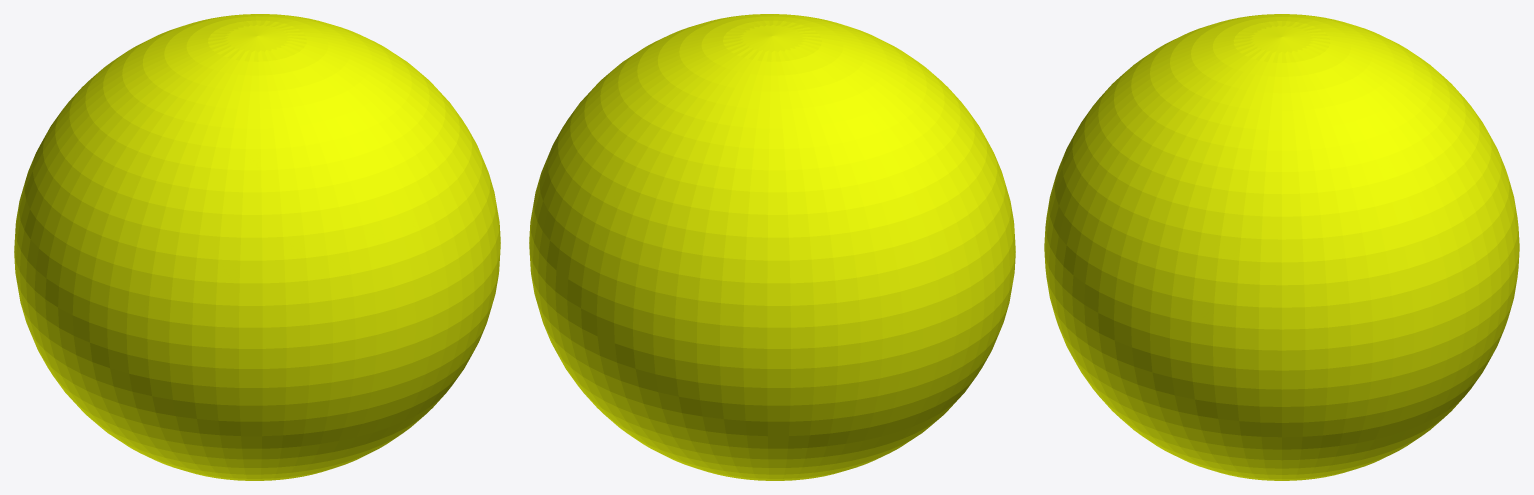
Rendered from Sun.obj.
3 renders of one model, left to right at view 1: azimuth 30°, elevation 25°; view 2: azimuth 150°, elevation 25°; view 3: azimuth 270°, elevation 25°, orthographic.
Parts seen in each view (by area): view 1: Sphere; view 2: Sphere; view 3: Sphere.
Part boxes in pixels (x1,y1,x2,y2): Sphere: (14, 14, 500, 480); Sphere: (529, 14, 1015, 480); Sphere: (1044, 14, 1519, 480).
Bounding box in the file's own units: 6.3 × 6 × 6.14.
